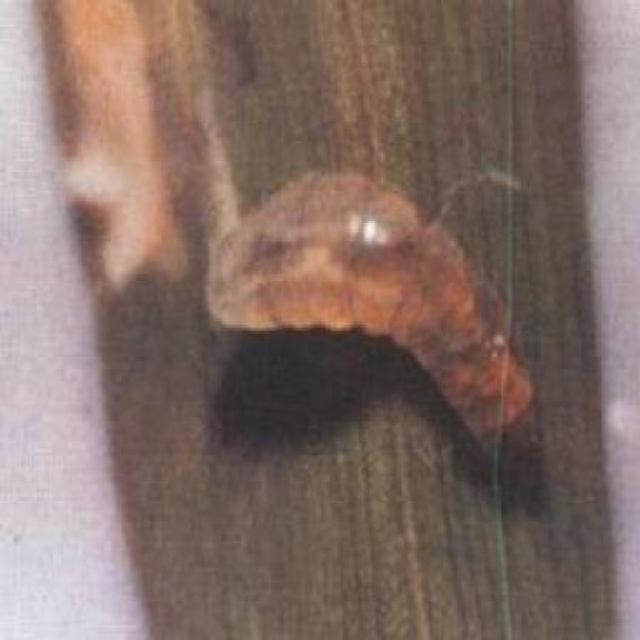whorl-maggot: (203, 170, 537, 471)
